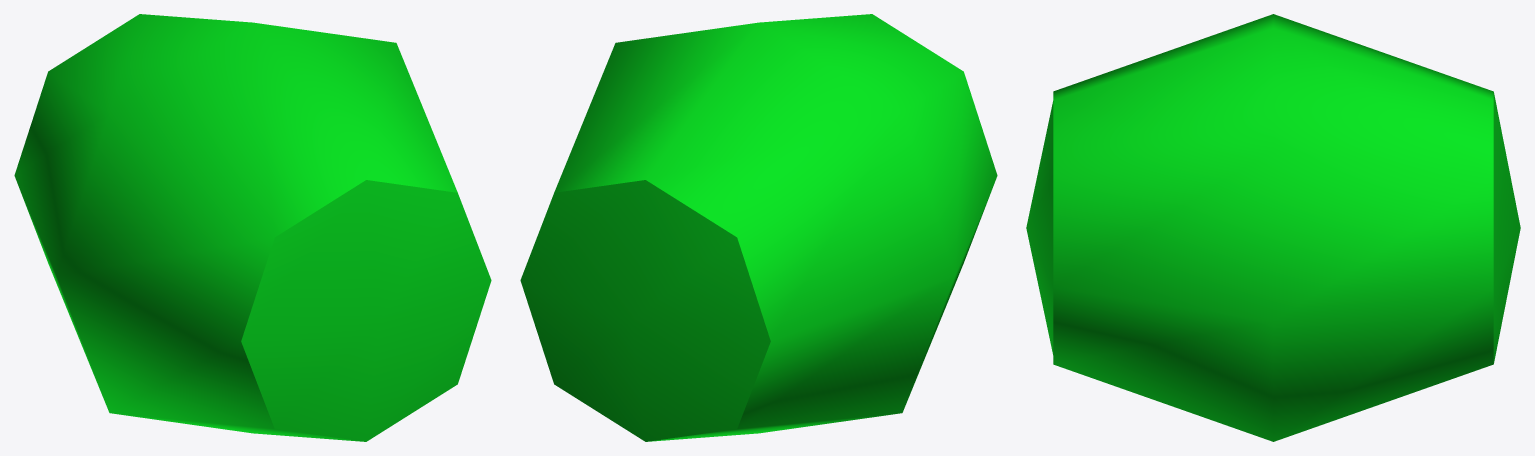
The model's file is Shell.fbx.
3 renders of one model, left to right at view 1: azimuth 30°, elevation 25°; view 2: azimuth 150°, elevation 25°; view 3: azimuth 270°, elevation 25°, orthographic. The views are drawn at different scales.
Parts seen in each view (by area): view 1: Box01; view 2: Box01; view 3: Box01.
Boxes of the visible parts, x1,y1,x2,y2 form: Box01: [14, 14, 491, 441]; Box01: [520, 14, 997, 441]; Box01: [1026, 14, 1520, 441].
Bounding box in the file's own units: 1 × 1 × 1.12.
